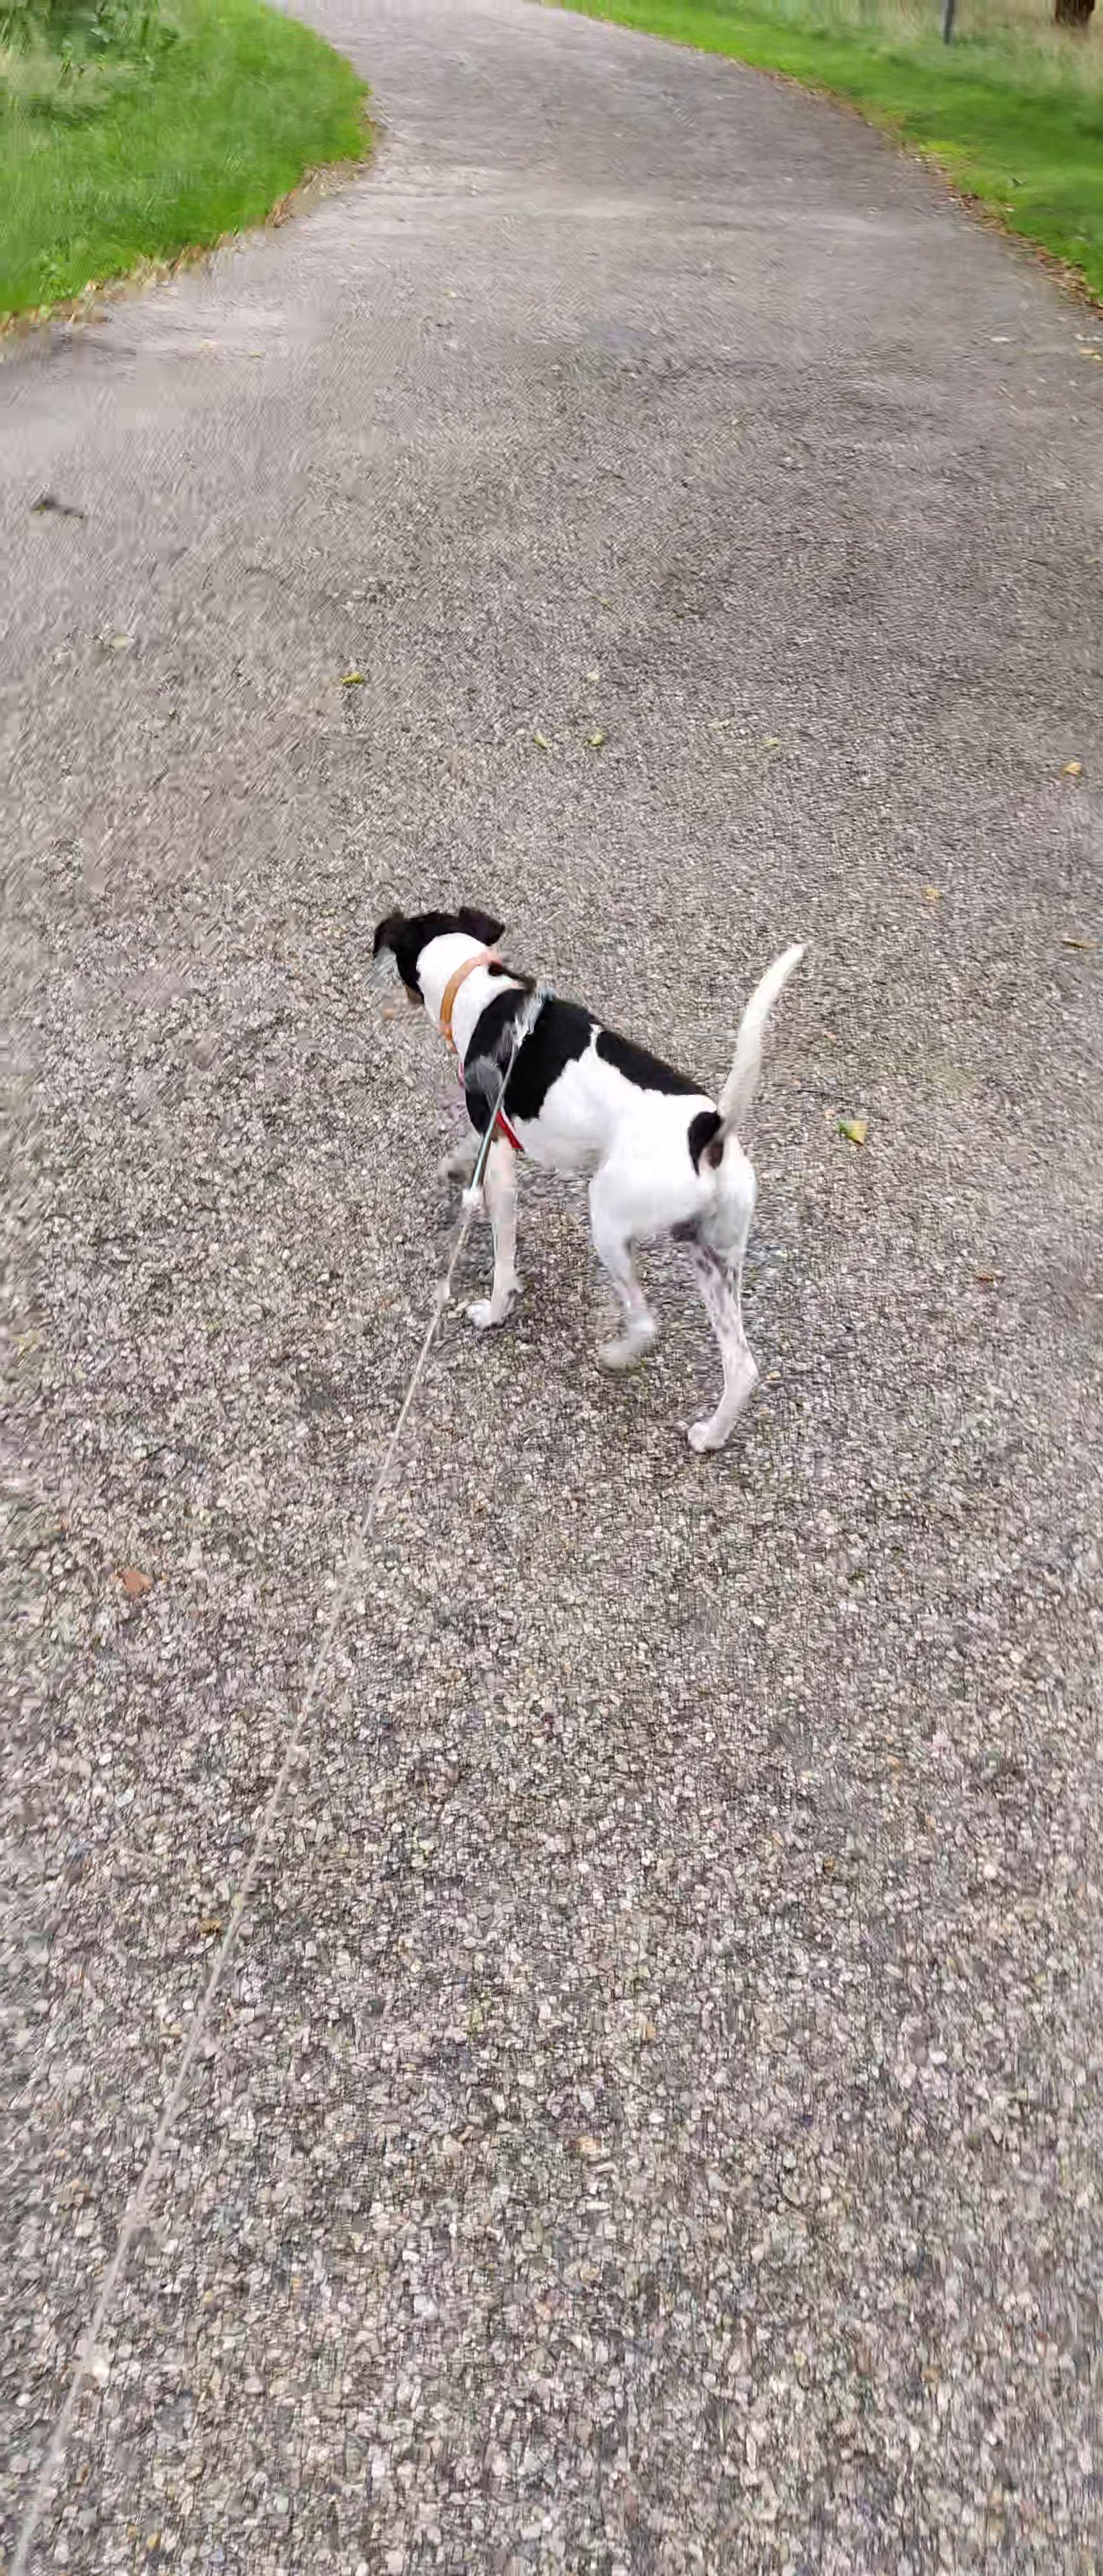Dog: (365, 900, 822, 1462)
